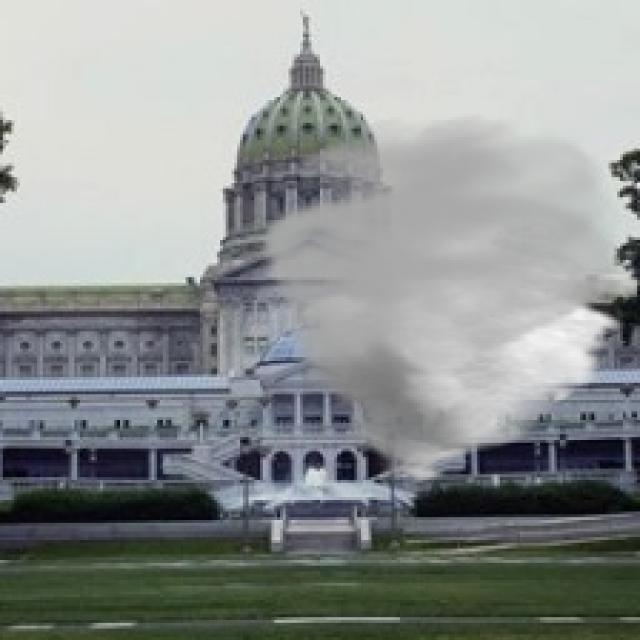Smoke: (254, 114, 637, 486)
